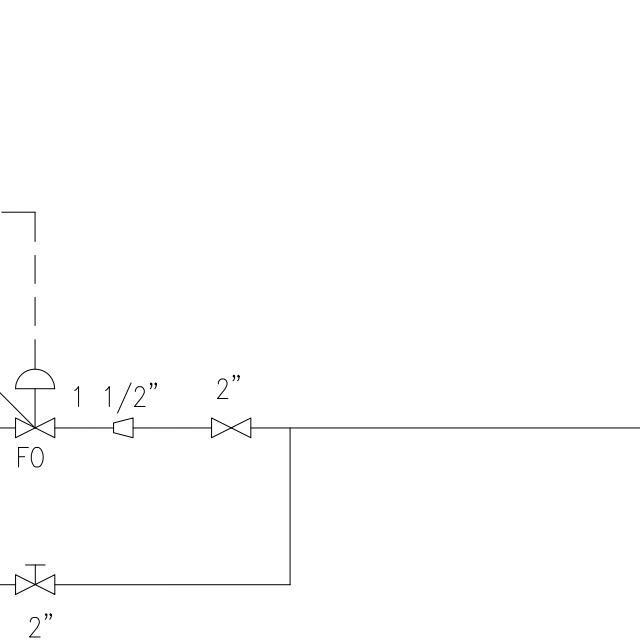FC: (10, 367, 60, 444)
GV: (205, 413, 255, 445)
HV: (10, 559, 60, 596)
SP: (107, 415, 140, 441)
